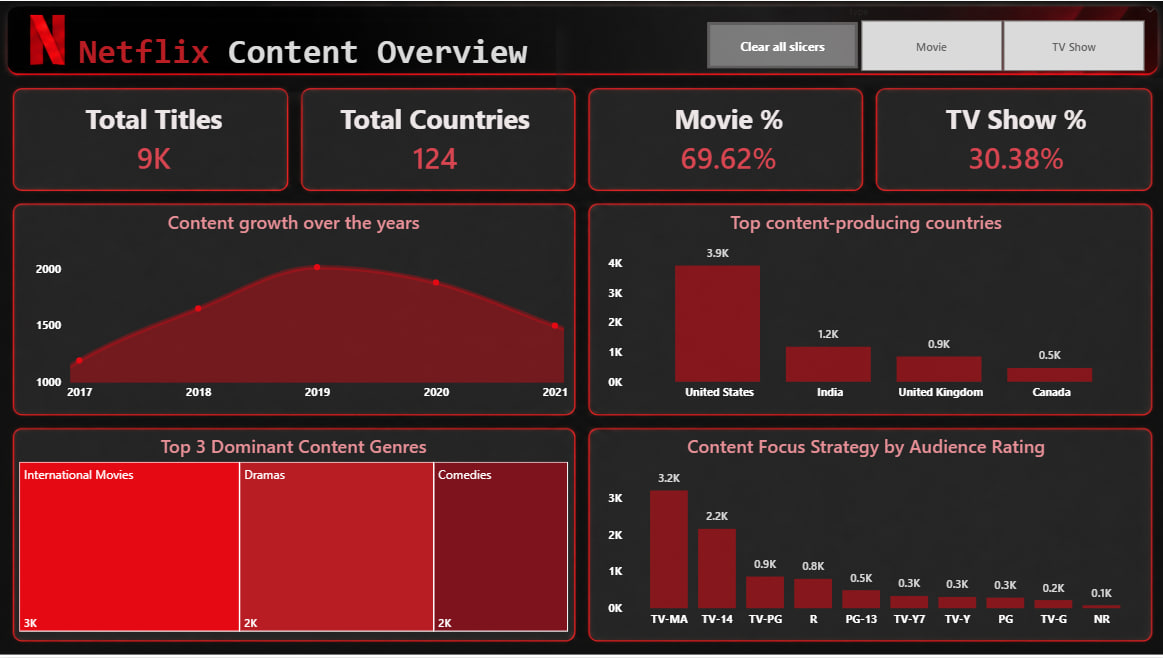

What the dashboard file says about the page in this screenshot:
{"tool":"powerbi","page":{"name":"Overview","canvas":[1280,720],"ordinal":0},"visuals":[{"type":"cardVisual","fields":{"Data":["FactNetflix.Total Titles"]},"box":[28.6,100,281,101.2],"z":0},{"type":"cardVisual","fields":{"Data":["FactNetflix.Total Countries"]},"box":[336.9,100,281,101.2],"z":1000},{"type":"cardVisual","fields":{"Data":["FactNetflix.Movie %"]},"box":[659.5,100,281,101.2],"z":2000},{"type":"cardVisual","fields":{"Data":["FactNetflix.TV Show %"]},"box":[976.2,100,281,101.2],"z":3000},{"type":"areaChart","title":"Content growth over the years","fields":{"Category":["DimDate.Year"],"Y":["FactNetflix.Total Titles"]},"box":[16.7,228.6,611.9,219],"z":4000},{"type":"columnChart","title":"Top content-producing countries","fields":{"Category":["DimCountry.Country"],"Y":["FactNetflix.Total Titles"]},"box":[645.2,228.6,611.9,219],"z":5000},{"type":"treemap","title":"Top 3 Dominant Content Genres","fields":{"Group":["DimGenre.Genre"],"Values":["FactNetflix.Total Titles"]},"box":[16.5,474.8,612,222.3],"z":6000},{"type":"columnChart","title":"Content Focus Strategy by Audience Rating","fields":{"Category":["DimRating.rating"],"Y":["FactNetflix.Total Titles"]},"box":[645,475,612,222],"z":7000},{"type":"textbox","box":[64.5,23.3,546.1,76.8],"z":8000},{"type":"slicer","fields":{"Values":["DimContent.type"]},"box":[919.4,0,360.9,83.7],"z":9000},{"type":"actionButton","box":[776.7,23.3,164.7,50.8],"z":10000}]}

Visuals, with their boxes in screenshot pixels (x1, y1, x2, y2), scaled from the page's 1280x720 canvas onto the 1163x658 screenshot:
cardVisual - FactNetflix.Total Titles: bbox=(26, 91, 281, 184)
cardVisual - FactNetflix.Total Countries: bbox=(306, 91, 561, 184)
cardVisual - FactNetflix.Movie %: bbox=(599, 91, 855, 184)
cardVisual - FactNetflix.TV Show %: bbox=(887, 91, 1142, 184)
"Content growth over the years" areaChart: bbox=(15, 209, 571, 409)
"Top content-producing countries" columnChart: bbox=(586, 209, 1142, 409)
"Top 3 Dominant Content Genres" treemap: bbox=(15, 434, 571, 637)
"Content Focus Strategy by Audience Rating" columnChart: bbox=(586, 434, 1142, 637)
textbox: bbox=(59, 21, 555, 91)
slicer - DimContent.type: bbox=(835, 0, 1162, 76)
actionButton: bbox=(706, 21, 855, 68)
